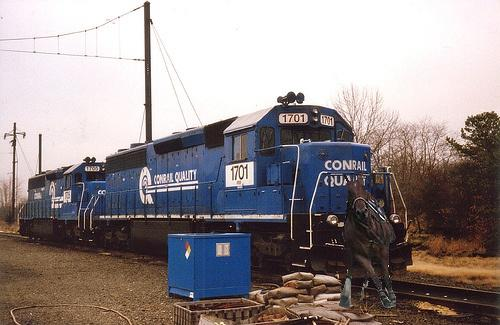tampered: (340, 173, 396, 308)
